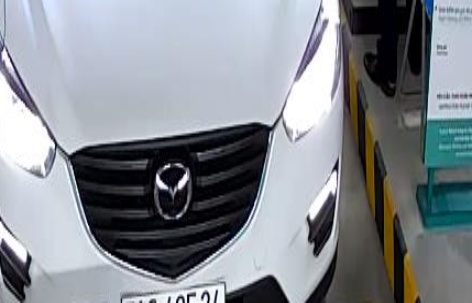plate: (117, 283, 239, 303)
